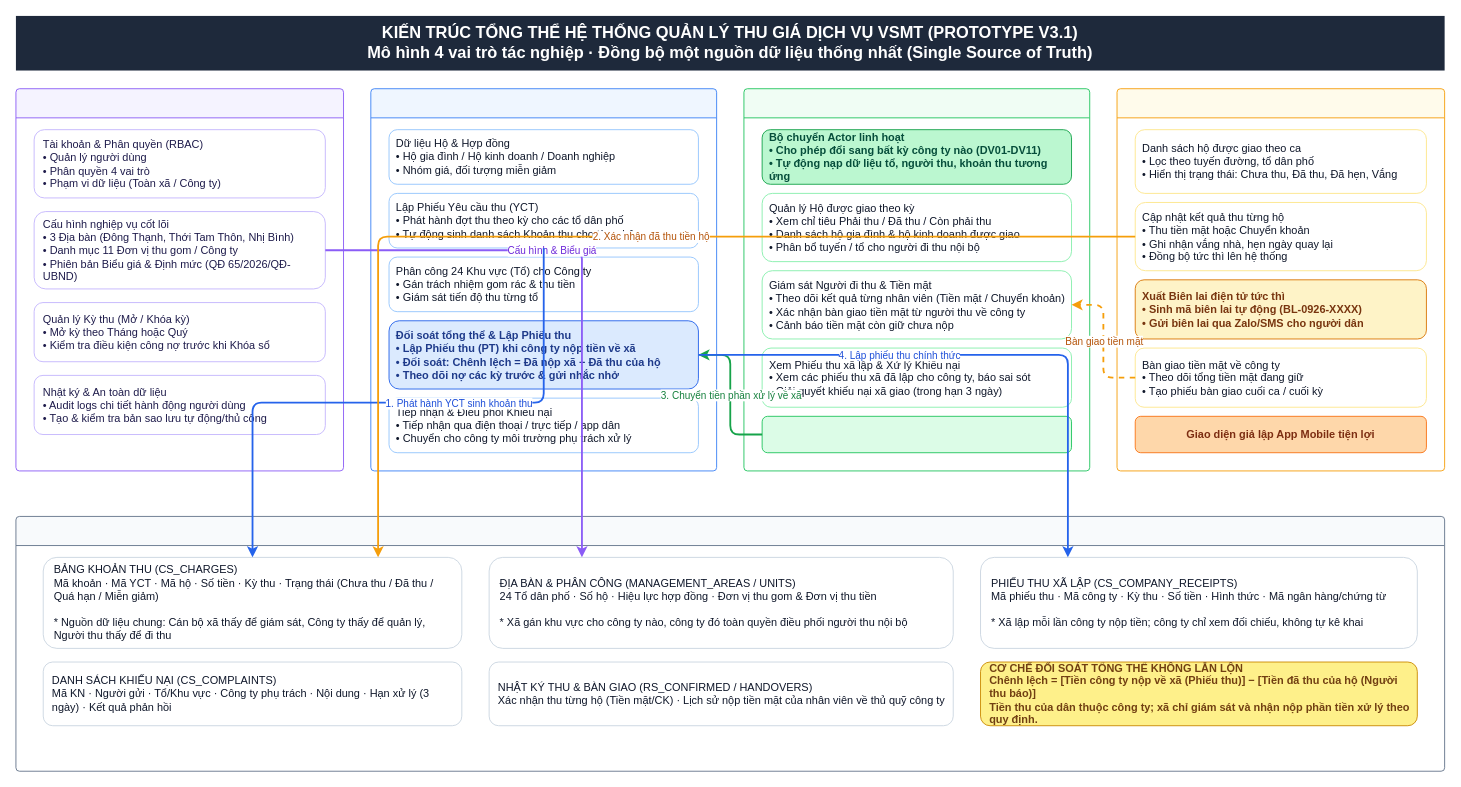
This 1461x787 diagram has some shape labels left out. The shapes that lost their labels are listed below. From the top down, each one's box as (x1, y1, x2, y2) in pixels, then its label:
(15, 88, 344, 471): 1. QUẢN TRỊ HỆ THỐNG (System Administrator)
(370, 88, 717, 471): 2. CÁN BỘ XÃ (Phòng Kinh tế)
(743, 88, 1090, 471): 3. CÔNG TY MÔI TRƯỜNG (Actor linh hoạt)
(1116, 88, 1445, 471): 4. NGƯỜI ĐI THU (Collector Mobile / Web)
(761, 415, 1072, 453): Nộp tiền phần xử lý về tài khoản ngân sách xã
(15, 516, 1445, 771): TẦNG DỮ LIỆU CỐT LÕI DÙNG CHUNG (SINGLE SOURCE OF TRUTH)
